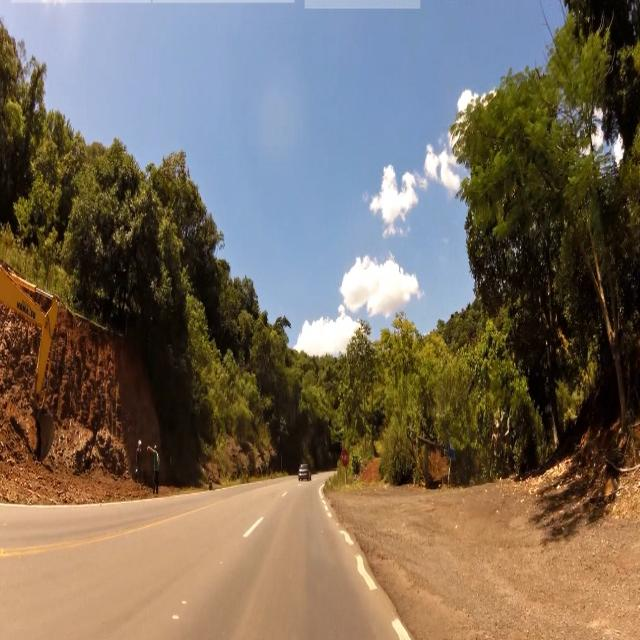R-1: (342, 448, 349, 467)
